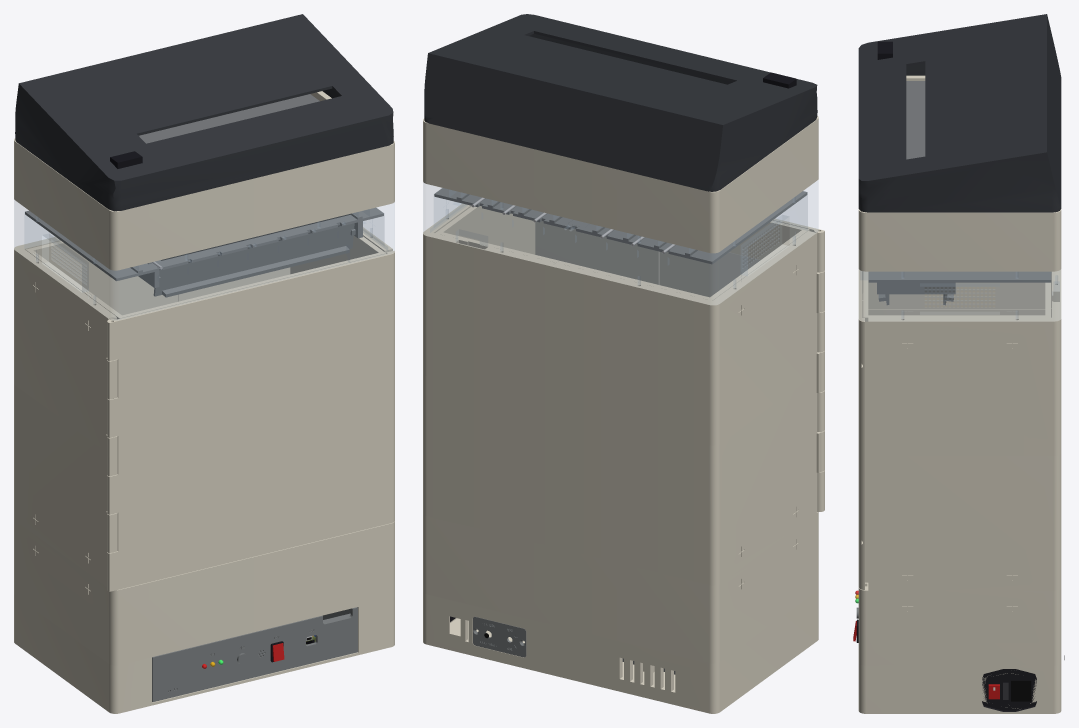
3 views of the same model, side by side, from view 1: azimuth 30°, elevation 25°; view 2: azimuth 150°, elevation 25°; view 3: azimuth 270°, elevation 25° (orthographic). The views are drawn at different scales.
Visible parts, largest first — view 1: s2_door, head, s1_box, s2_outer, s4, s3, s0_drawer, s0_fixed, s2_bin; view 2: s2_outer, head, s1_box, s4, s3, s0_fixed, s2_bin, s2_door; view 3: s2_outer, head, s1_box, s4, s0_fixed, s3, s2_bin, s2_door.
Boxes of the visible parts, left/top/right/bottom form: s2_door: left=107, top=250, right=394, bottom=591; head: left=15, top=14, right=393, bottom=211; s1_box: left=14, top=519, right=394, bottom=665; s2_outer: left=14, top=227, right=392, bottom=586; s4: left=14, top=91, right=394, bottom=270; s3: left=14, top=200, right=394, bottom=319; s0_drawer: left=152, top=607, right=357, bottom=702; s0_fixed: left=14, top=594, right=394, bottom=713; s2_bin: left=26, top=235, right=385, bottom=319; s2_outer: left=423, top=203, right=824, bottom=585; head: left=424, top=14, right=817, bottom=191; s1_box: left=423, top=512, right=818, bottom=663; s4: left=423, top=116, right=818, bottom=253; s3: left=423, top=181, right=817, bottom=304; s0_fixed: left=423, top=590, right=818, bottom=713; s2_bin: left=435, top=206, right=809, bottom=300; s2_door: left=535, top=218, right=824, bottom=511; s2_outer: left=862, top=269, right=1061, bottom=590; head: left=858, top=14, right=1061, bottom=212; s1_box: left=858, top=582, right=1061, bottom=665; s4: left=858, top=75, right=1061, bottom=271; s0_fixed: left=858, top=655, right=1064, bottom=713; s3: left=859, top=270, right=1060, bottom=320; s2_bin: left=862, top=271, right=1050, bottom=582; s2_door: left=858, top=269, right=867, bottom=589.
Bounding box in the file's own units: 0.3562 × 0.651 × 0.2217.
